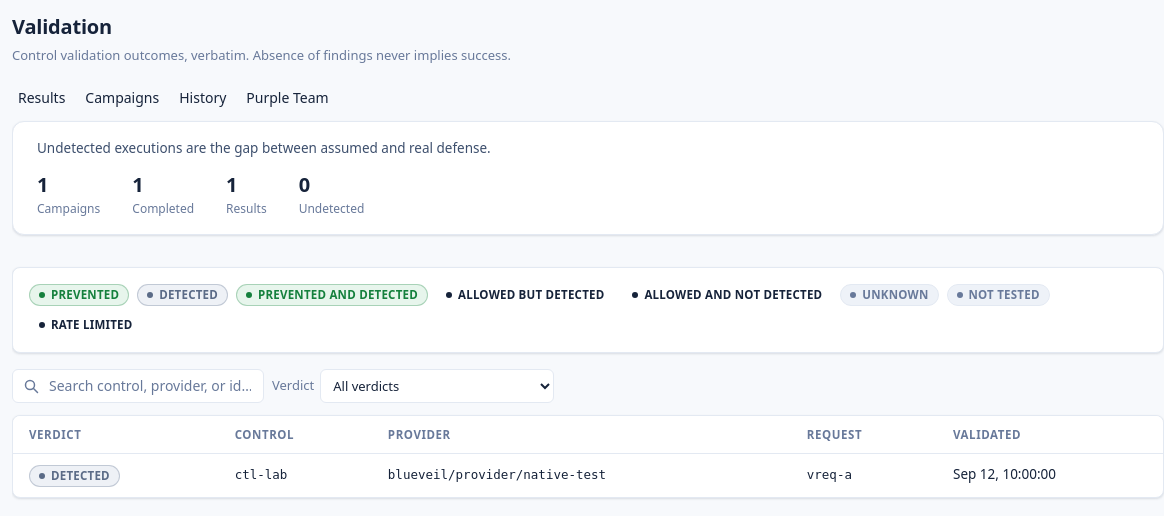
Test: Validation workspace tabs › defaults to results and shows campaigns tab
Check: the text "ctl-lab" is shown, box top-left (235, 467), bottom-right (287, 482)
Click the tab "Campaigns".
click(122, 97)  # box top-left (79, 86), bottom-right (165, 108)
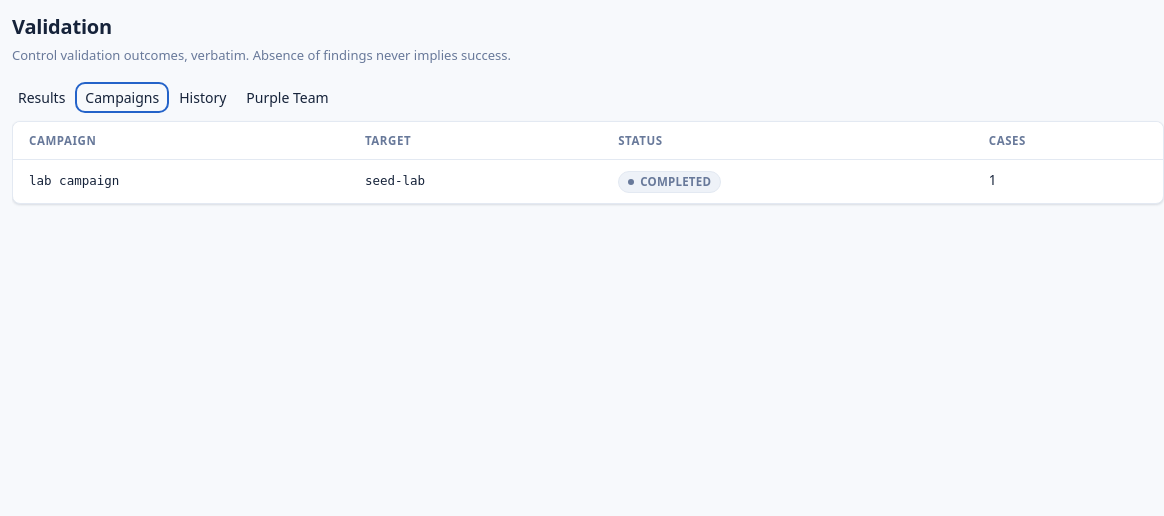
Check: the text "COMPLETED" is shown, box top-left (618, 171), bottom-right (721, 193)
Check: the text "lab campaign" is shown, box top-left (29, 173), bottom-right (119, 188)
